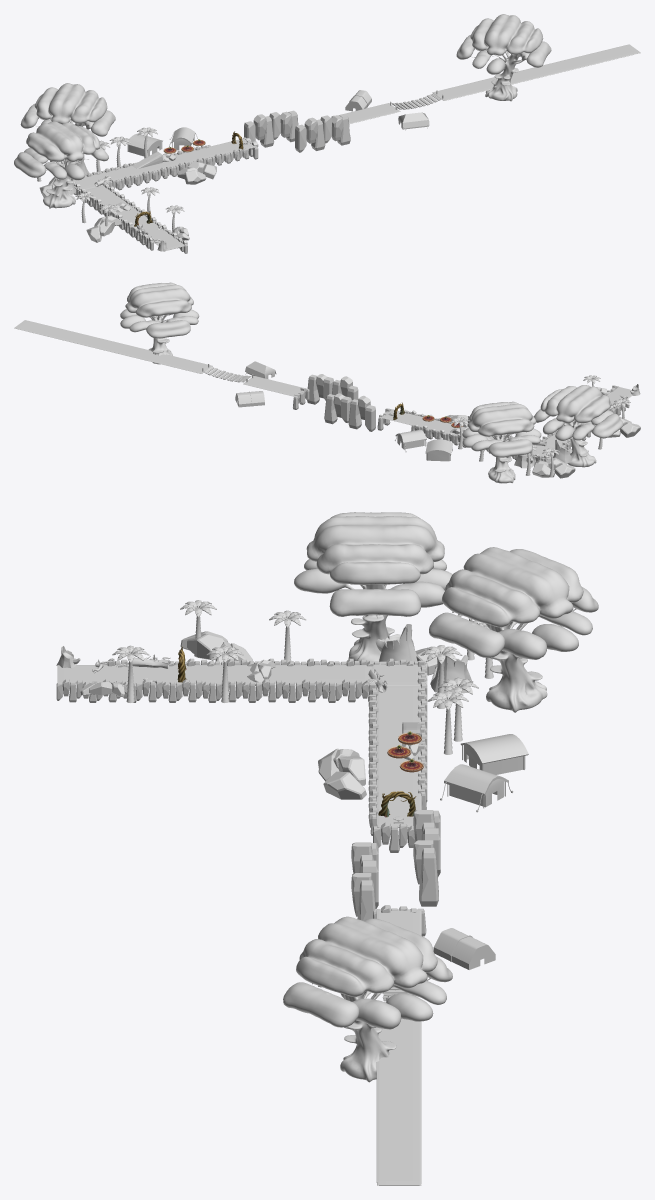
File: Prueva de runner2.fbx
3 views of the same model, one above another, from view 1: azimuth 30°, elevation 25°; view 2: azimuth 150°, elevation 25°; view 3: azimuth 270°, elevation 25° (orthographic). The views are drawn at different scales.
Parts seen in each view (by area): view 1: input.007, input.005, input.006, Floor.005, Cube.019, Cube.016, Floor.001, Cube.009, Floor, Cube.008, Cube.005, Floor.004 (+6 smaller); view 2: input.005, input.006, input.007, Floor.005, Cube.016, Cube.019, Floor.001, Cube.011, Floor.004, Cube.010, Cube.018, Cube.053 (+4 smaller); view 3: input.006, input.007, input.005, Floor.005, Cube.003, Floor, Floor.001, Cube.016, Cube.018, Cube.005, Cube.019, Cube.053 (+8 smaller).
Part boxes in pixels (<box>): input.007: <box>456,14,551,101</box>; input.005: <box>14,121,108,208</box>; input.006: <box>20,83,115,164</box>; Floor.005: <box>432,44,640,100</box>; Cube.019: <box>295,114,350,152</box>; Cube.016: <box>244,110,298,147</box>; Floor.001: <box>93,138,255,180</box>; Cube.009: <box>108,148,249,190</box>; Floor: <box>85,185,184,250</box>; Cube.008: <box>73,180,153,250</box>; Cube.005: <box>177,161,216,184</box>; Floor.004: <box>339,103,400,124</box>; input.005: <box>534,385,623,467</box>; input.006: <box>462,401,541,483</box>; input.007: <box>120,282,199,364</box>; Floor.005: <box>14,320,212,373</box>; Cube.016: <box>324,393,375,431</box>; Cube.019: <box>307,374,358,404</box>; Floor.001: <box>382,409,535,445</box>; Cube.011: <box>532,457,575,478</box>; Floor.004: <box>243,376,307,396</box>; Cube.010: <box>411,424,549,461</box>; Cube.018: <box>425,439,453,461</box>; Cube.053: <box>395,429,426,452</box>; input.006: <box>429,547,598,712</box>; input.007: <box>283,916,452,1082</box>; input.005: <box>294,512,452,664</box>; Floor.005: <box>376,1002,421,1185</box>; Cube.003: <box>56,679,373,702</box>; Floor: <box>57,665,371,684</box>; Floor.001: <box>376,686,421,827</box>; Cube.016: <box>413,810,440,906</box>; Cube.018: <box>460,734,528,774</box>; Cube.005: <box>318,748,366,799</box>; Cube.019: <box>351,842,378,920</box>; Cube.053: <box>440,764,513,812</box>.
Size of the model in its own units: 5992 by 742 by 2381.
2 materials, 2 textured.
